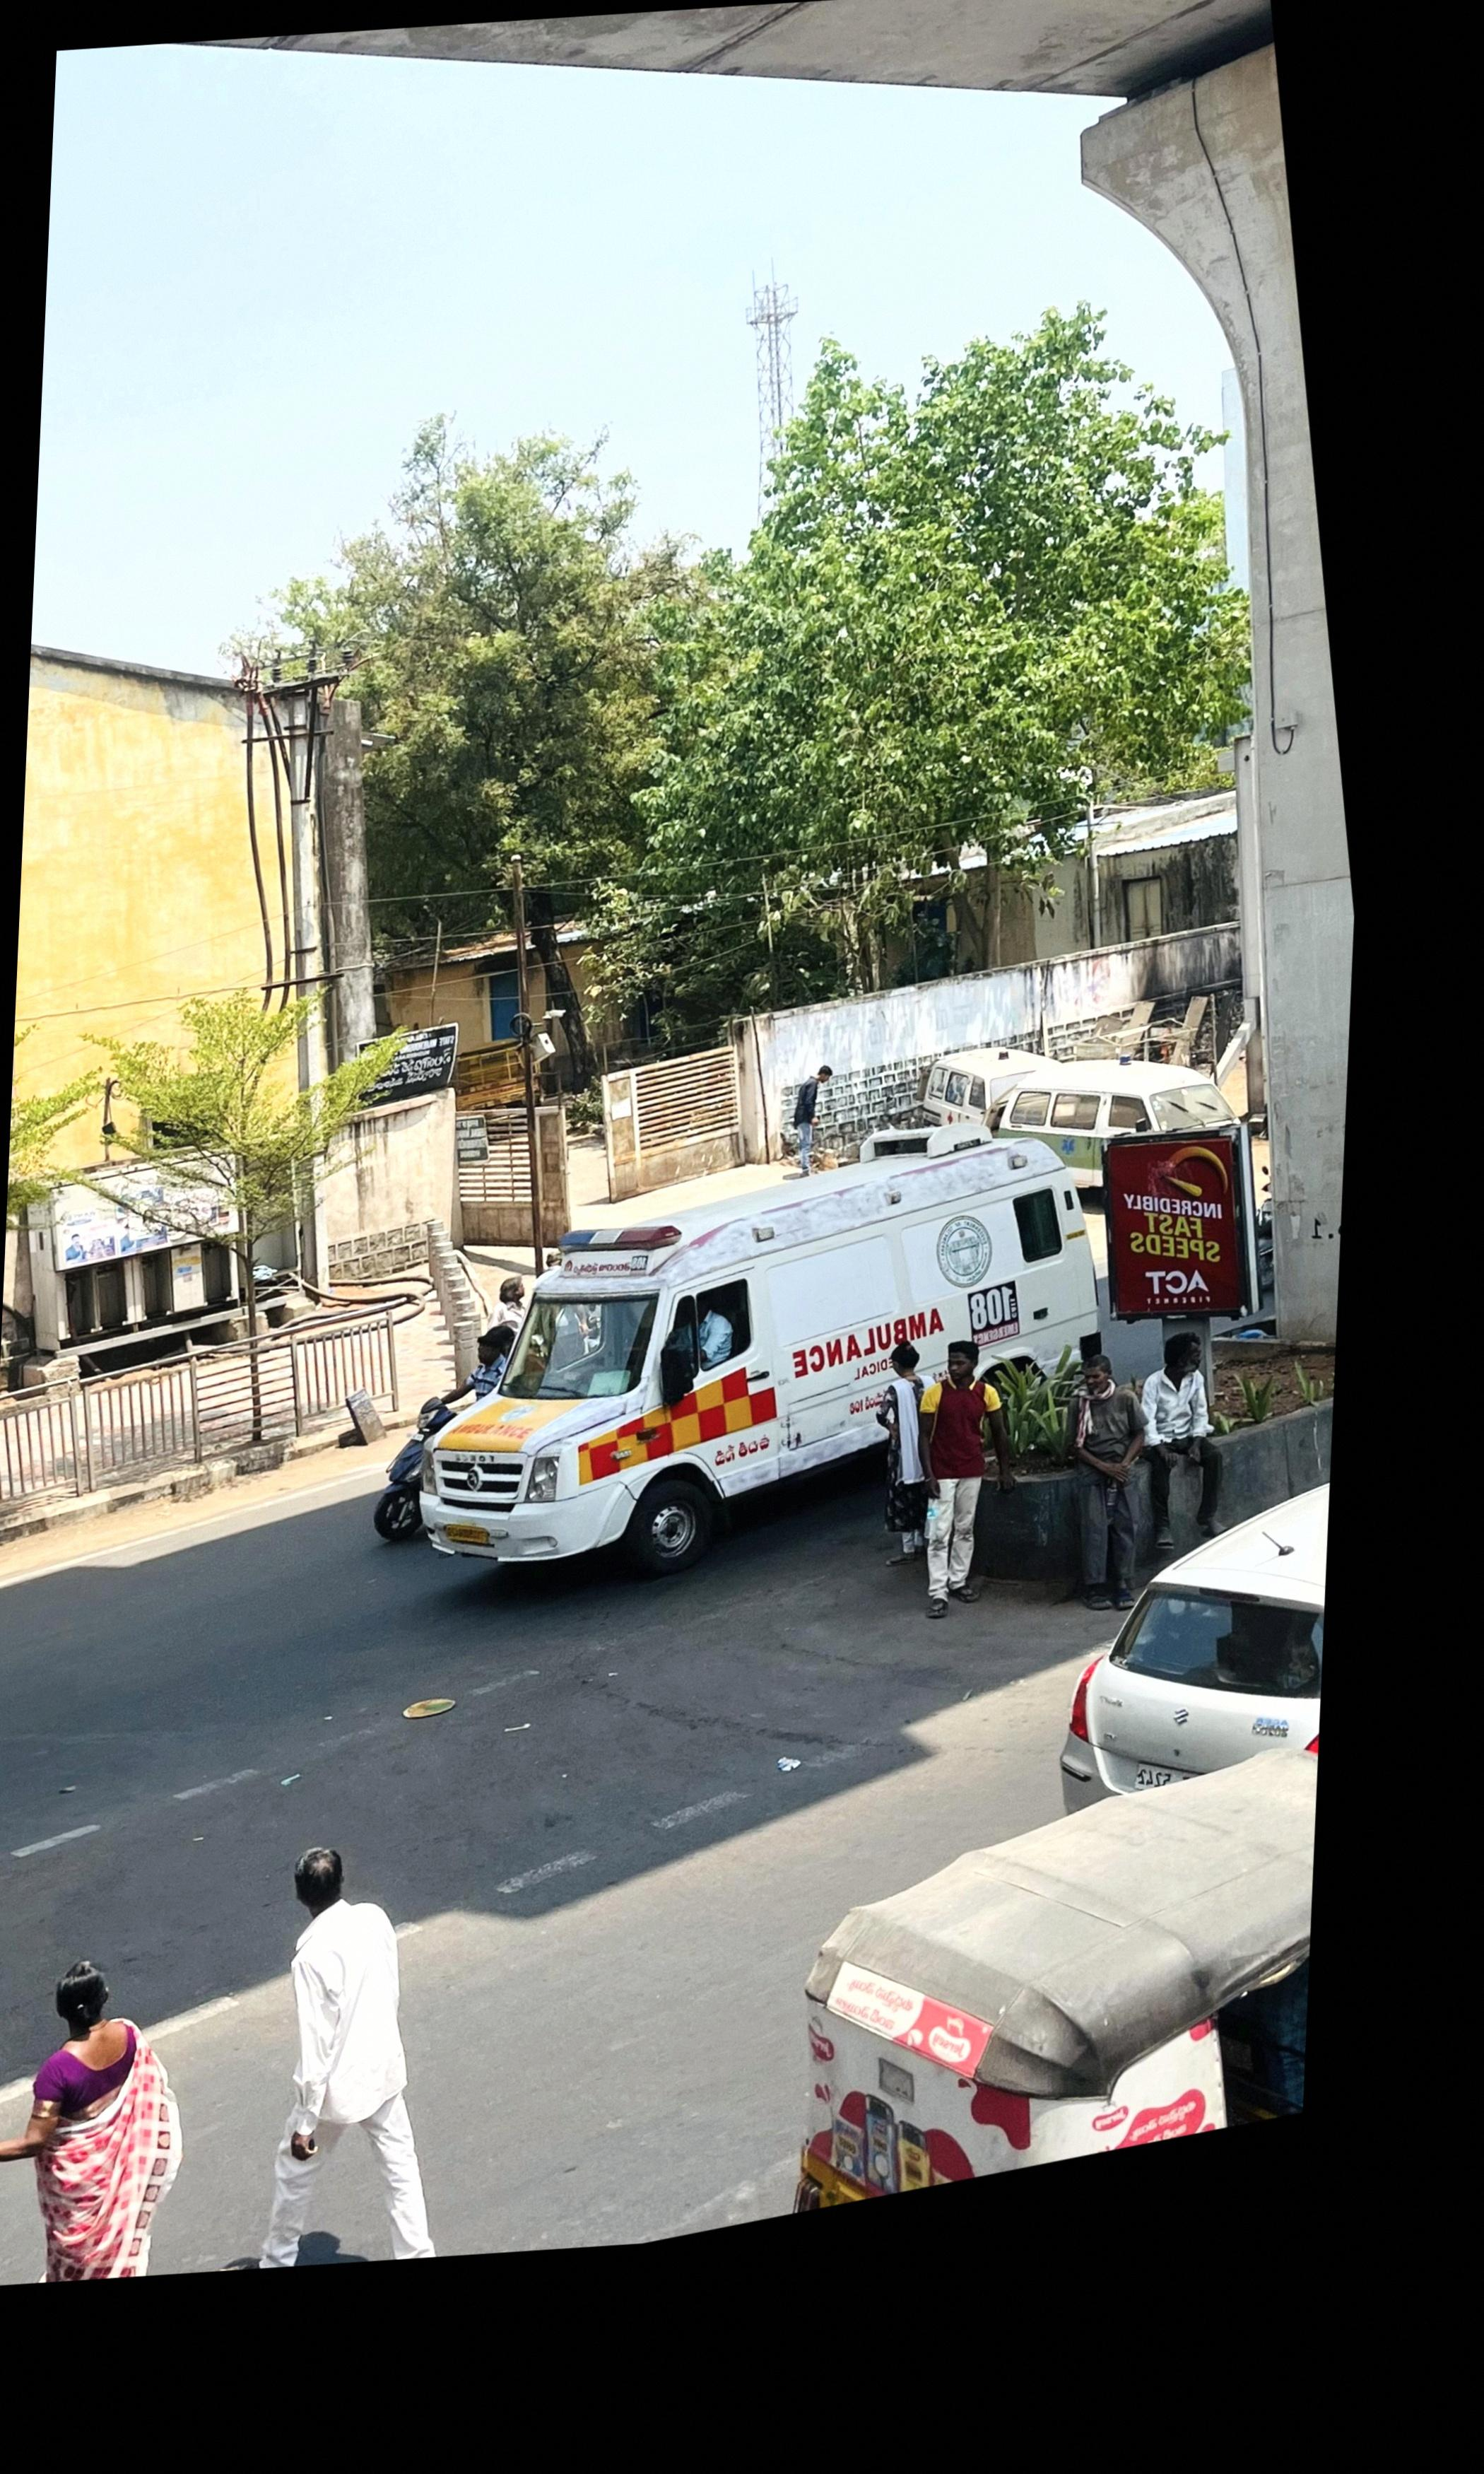ambulance: (431, 1120, 1104, 1578)
